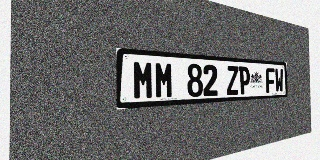2: (203, 64, 217, 96)
8: (187, 63, 203, 97)
F: (266, 68, 275, 93)
M: (132, 60, 154, 100), (154, 61, 174, 99)
P: (239, 66, 250, 94)
W: (275, 68, 283, 93)
Z: (226, 66, 239, 95)
